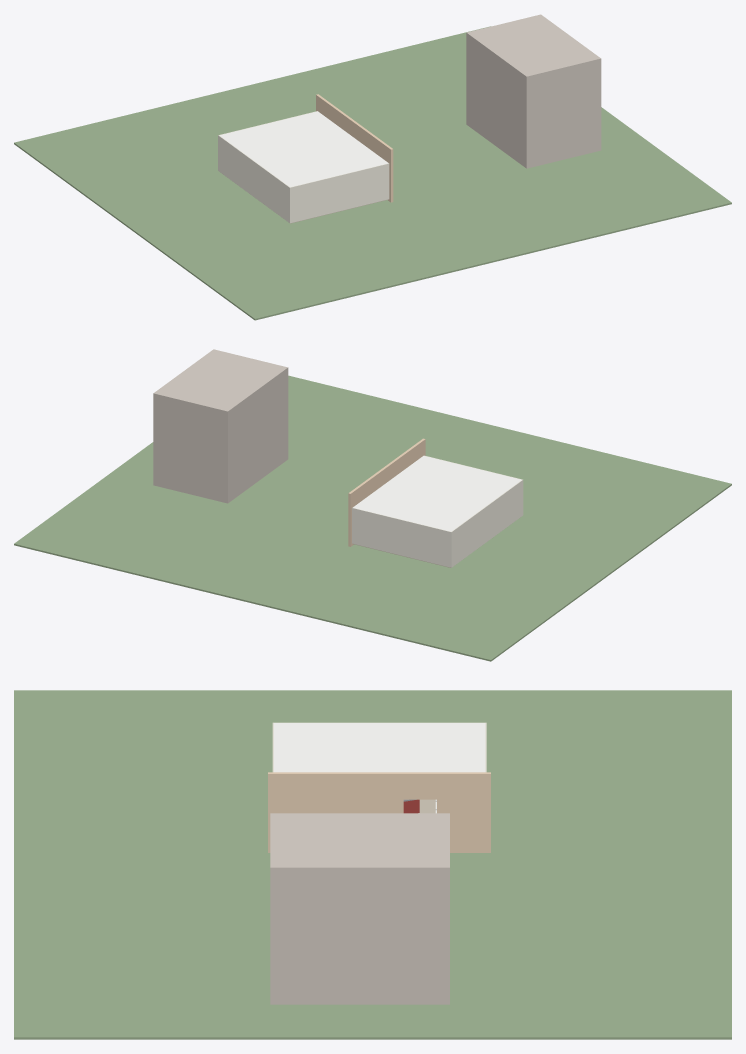
File: twin.fixture.glb
The picture shows the model from 3 angles, top to bottom: view 1: azimuth 30°, elevation 25°; view 2: azimuth 150°, elevation 25°; view 3: azimuth 270°, elevation 25°; orthographic projection. The views are drawn at different scales.
Visible parts, largest first — view 1: umgebung/boden, umgebung/nachbarhaus, verkaufsraum/rasterdecke, verkaufsraum/wandfliesen, fassade/wand; view 2: umgebung/boden, umgebung/nachbarhaus, verkaufsraum/rasterdecke, verkaufsraum/wandfliesen, fassade/wand; view 3: umgebung/boden, umgebung/nachbarhaus, fassade/wand, verkaufsraum/rasterdecke.
Part boxes in pixels (x1,y1,x2,y2): umgebung/boden: (14,26,731,320); umgebung/nachbarhaus: (466,14,601,168); verkaufsraum/rasterdecke: (219,111,388,187); verkaufsraum/wandfliesen: (218,111,389,223); fassade/wand: (316,94,393,202); umgebung/boden: (14,375,731,661); umgebung/nachbarhaus: (153,349,288,503); verkaufsraum/rasterdecke: (353,456,521,531); verkaufsraum/wandfliesen: (352,455,523,567); fassade/wand: (348,438,425,546); umgebung/boden: (14,690,731,1039); umgebung/nachbarhaus: (270,813,449,1004); fassade/wand: (268,772,490,852); verkaufsraum/rasterdecke: (274,723,485,772).
Bounding box in the file's own units: 32 × 6 × 28.
